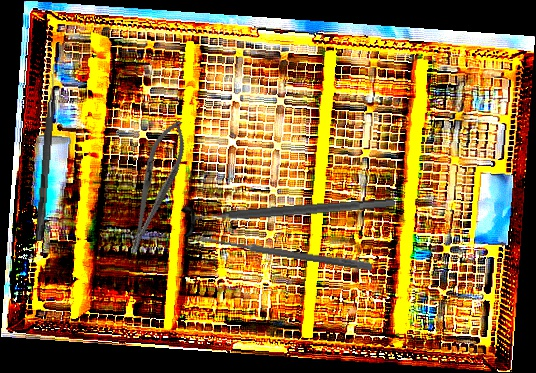Fixation Ring: (180, 185, 397, 239)
Hook Surgical: (35, 63, 58, 242)
Needle Holder: (117, 115, 194, 258)
Surgical Spoon: (196, 234, 373, 271)
